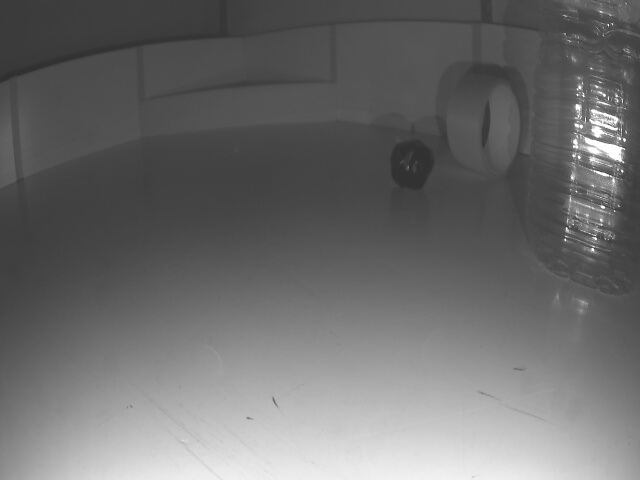Dead: (390, 138, 432, 189)
Point: (142, 83, 336, 140)
